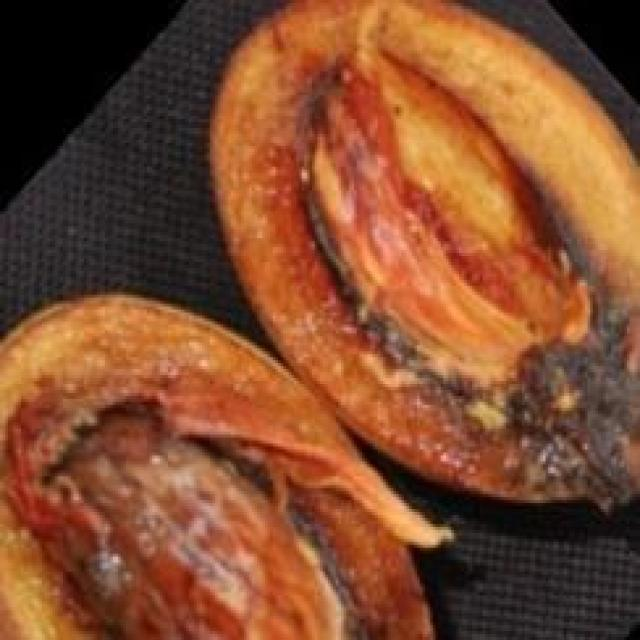damaged: (207, 0, 637, 521), (0, 292, 454, 637)
